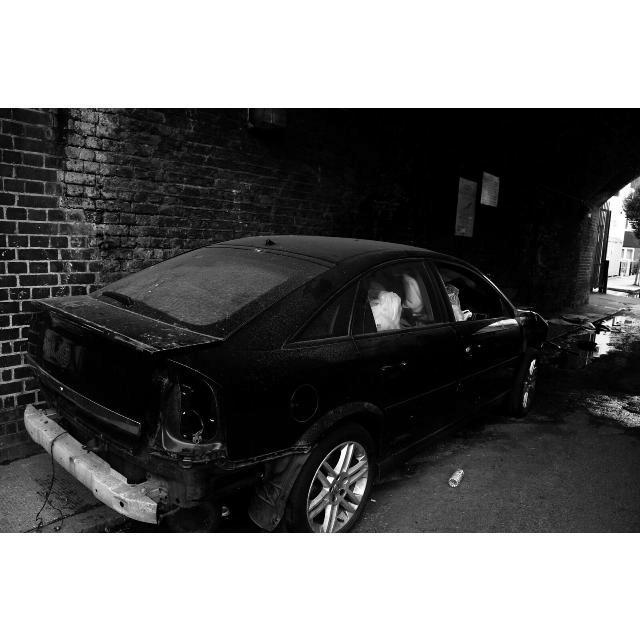rear-bumper-dent: (1, 349, 209, 503)
